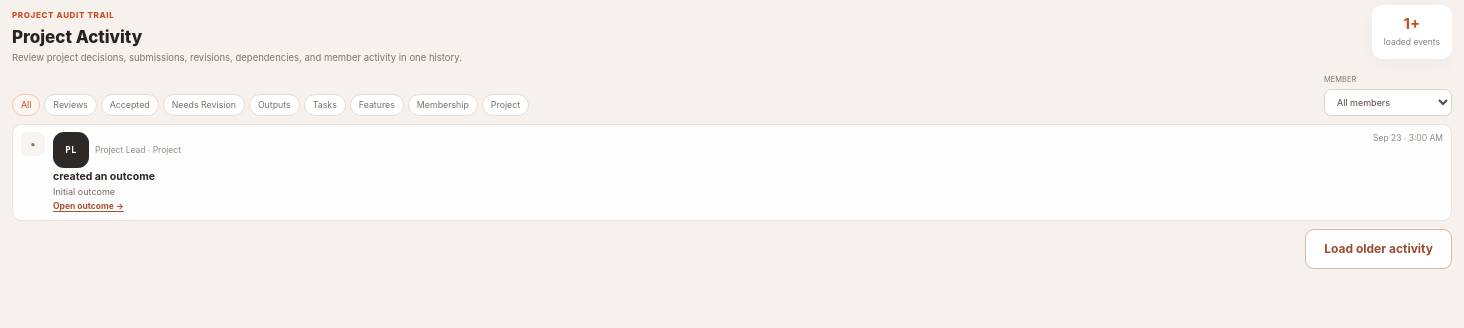
Test: ProjectActivityPanel › loads older events and does not duplicate overlapping event IDs
Click the button "Load older activity" at (1379, 249), box 1305,229 -> 1452,269
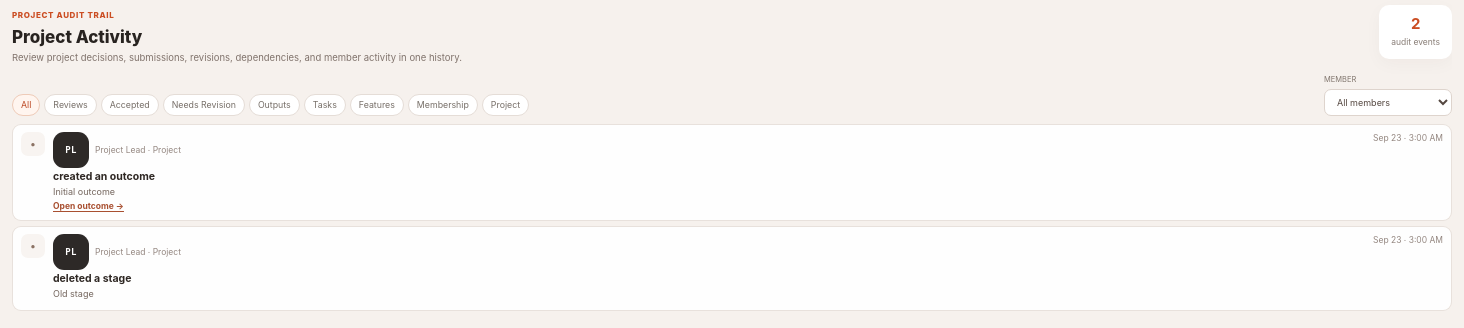
Check: the text "deleted a stage" is shown, box 53,272 -> 131,285
Check: the text "created an outcome" is shown once, box 53,170 -> 155,183
